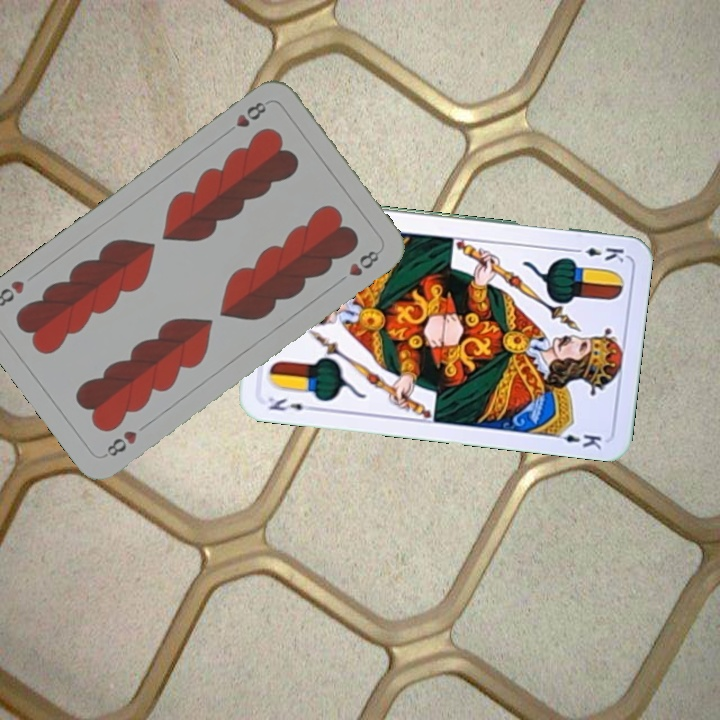EK: (258, 392, 318, 414), (568, 243, 627, 265)
H8: (221, 97, 269, 138), (100, 426, 140, 460)
